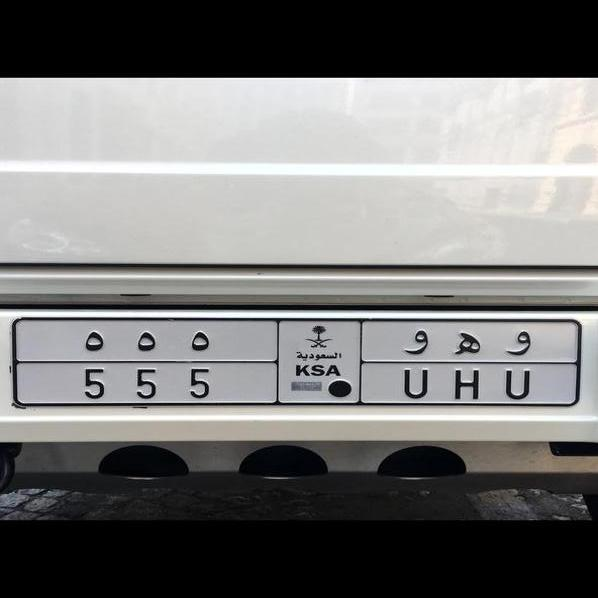numberplate: (36, 319, 554, 406)
